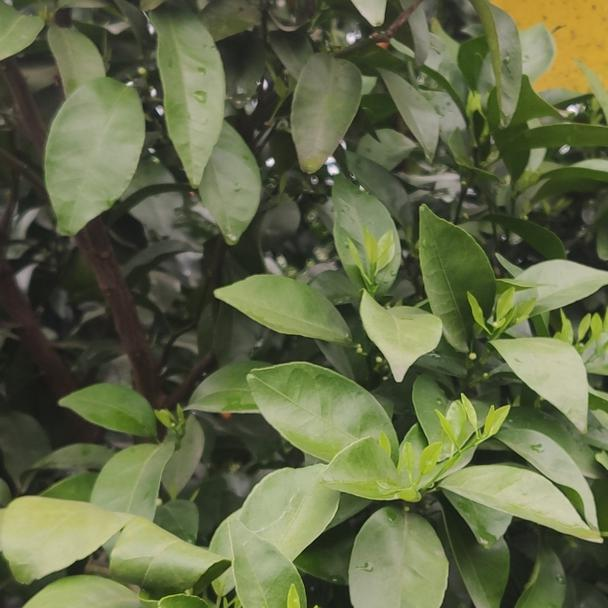shoot: (422, 400, 507, 491), (460, 283, 548, 335), (342, 223, 401, 290)
